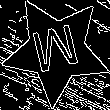M_S: (28, 20, 84, 81)
